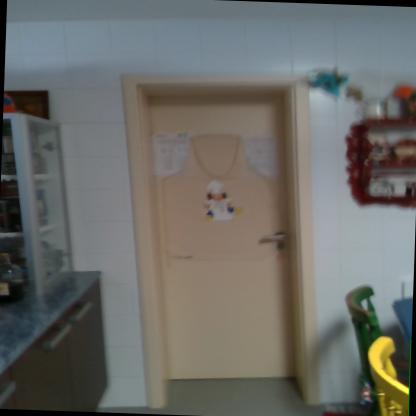closed: (104, 64, 322, 406)
